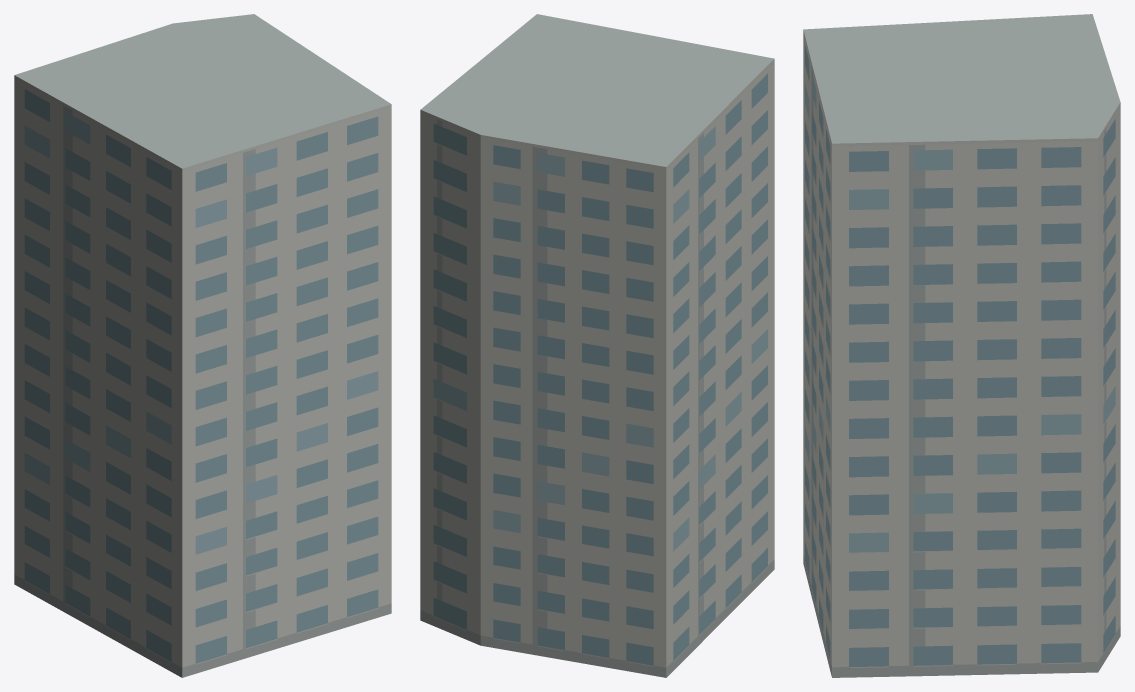
File: residential-9d95aead-d0d1-4924-b2af-9f58c694e40f.glb
3 renders of one model, left to right at view 1: azimuth 30°, elevation 25°; view 2: azimuth 150°, elevation 25°; view 3: azimuth 270°, elevation 25°, orthographic. The views are drawn at different scales.
Visible parts, largest first — view 1: residential-9d95aead-d0d1-4924-b2af-9f58c694e40f.tmp; view 2: residential-9d95aead-d0d1-4924-b2af-9f58c694e40f.tmp; view 3: residential-9d95aead-d0d1-4924-b2af-9f58c694e40f.tmp.
Part boxes in pixels (bbox=[...]): residential-9d95aead-d0d1-4924-b2af-9f58c694e40f.tmp: bbox=[14, 14, 391, 677]; residential-9d95aead-d0d1-4924-b2af-9f58c694e40f.tmp: bbox=[420, 14, 774, 677]; residential-9d95aead-d0d1-4924-b2af-9f58c694e40f.tmp: bbox=[803, 14, 1120, 677].
Bounding box in the file's own units: 22.38 × 43 × 23.14.
